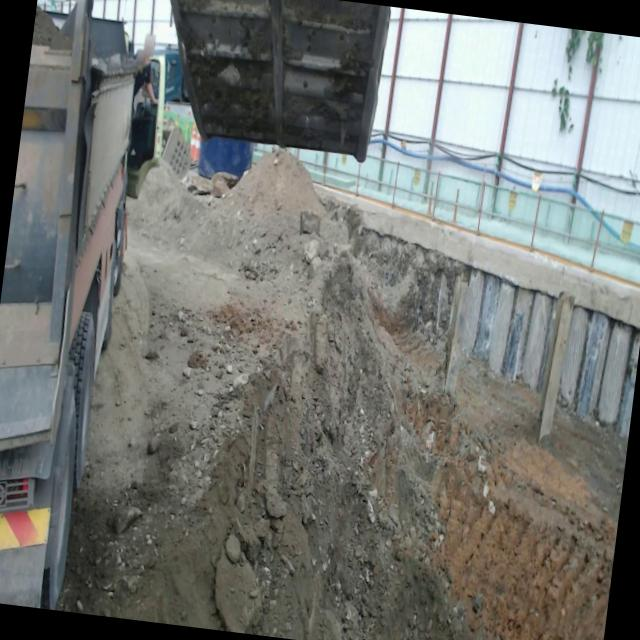cement: (315, 184, 640, 329)
red-sand: (60, 152, 627, 640)
